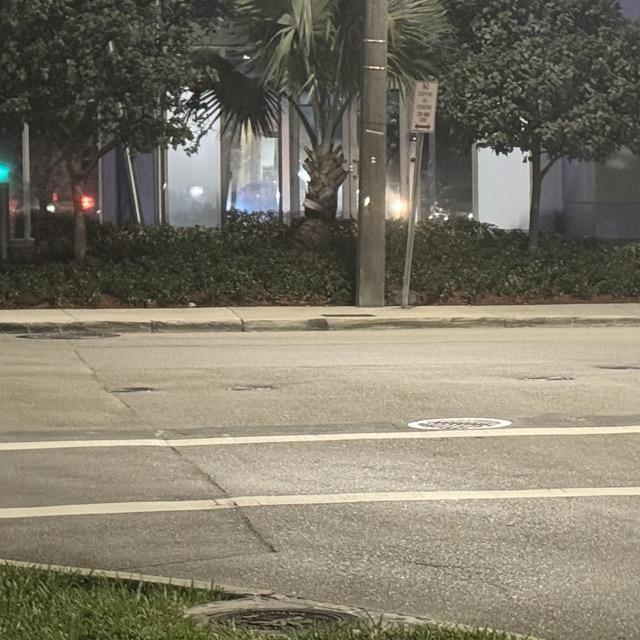curb: (0, 316, 639, 337), (0, 559, 280, 598), (385, 613, 471, 628), (309, 601, 360, 613)
